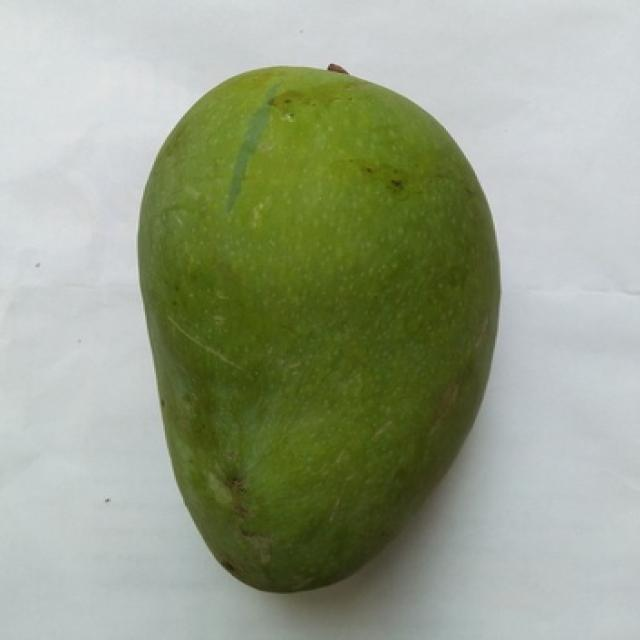Mango: (138, 67, 497, 591)
